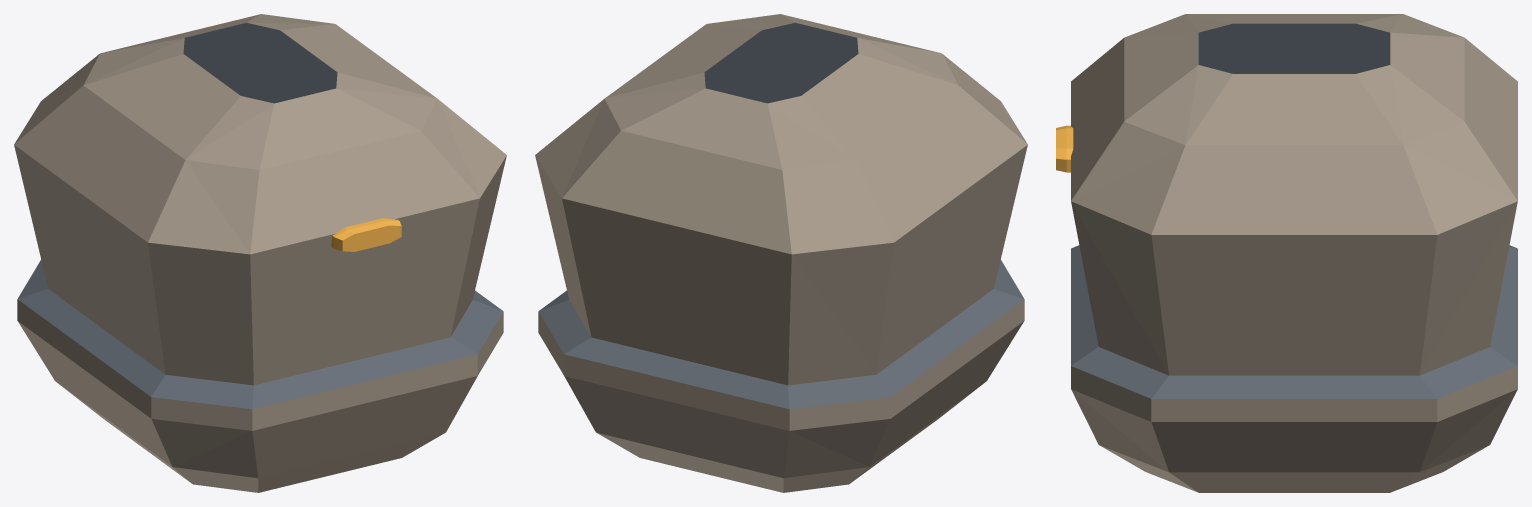
The model's file is pauldron_medium.glb.
The picture shows the model from 3 angles, left to right: view 1: azimuth 30°, elevation 25°; view 2: azimuth 150°, elevation 25°; view 3: azimuth 270°, elevation 25°; orthographic projection. The views are drawn at different scales.
Visible parts, largest first — view 1: pauldron_medium; view 2: pauldron_medium; view 3: pauldron_medium.
Boxes of the visible parts, x1,y1,x2,y2 form: pauldron_medium: [14, 14, 506, 492]; pauldron_medium: [535, 14, 1027, 492]; pauldron_medium: [1056, 14, 1517, 492].
Bounding box in the file's own units: 1.04 × 1 × 1.08.
